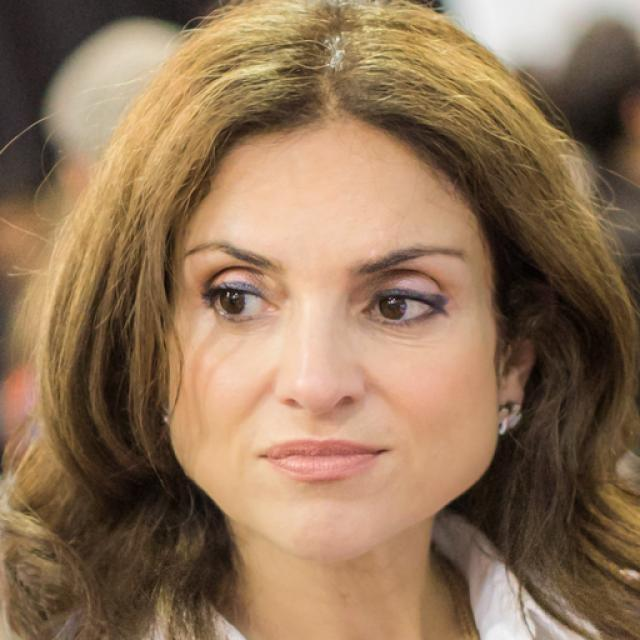neutral: (165, 118, 499, 560)
